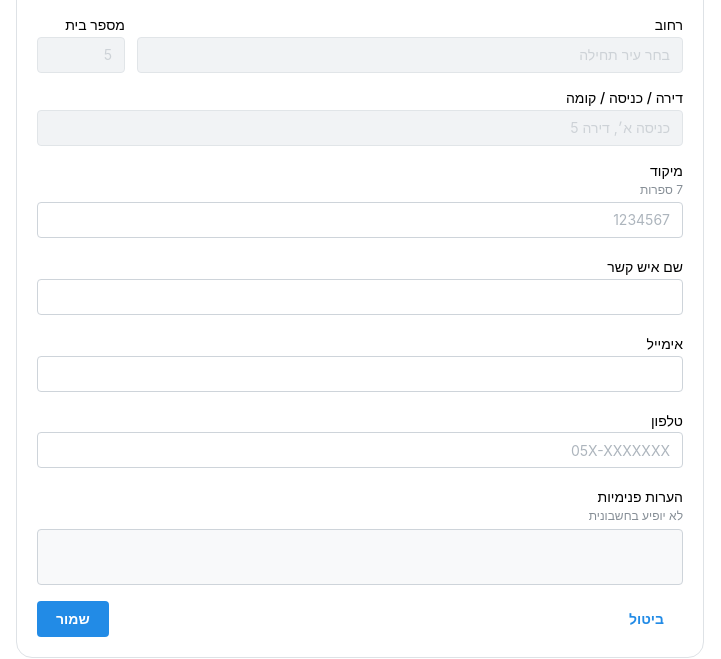
Scenario: CustomerCreate page › shows validation error when name is empty
(page scrolled)
Click the button "שמור" at (73, 619), box x1=37 y1=601 x2=109 y2=637
(page scrolled)
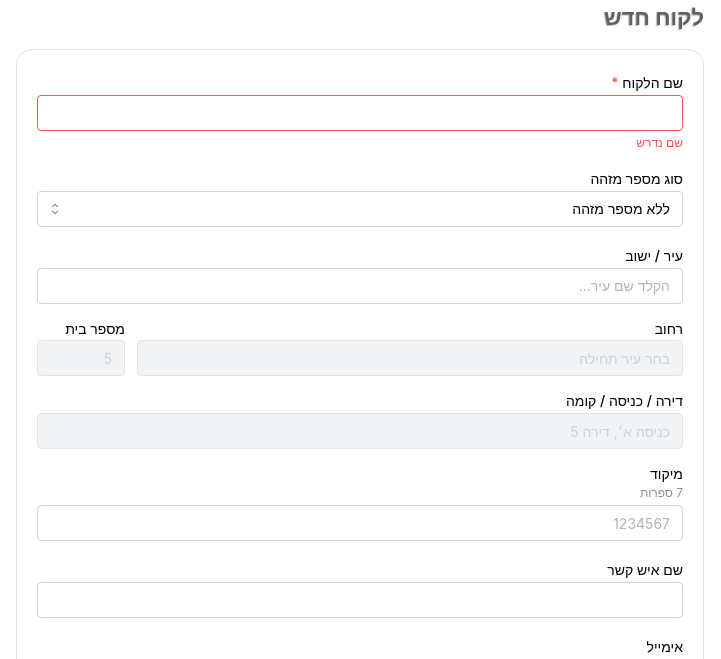
Expected: the text "שם נדרש" is shown, x1=636 y1=135 x2=683 y2=150
